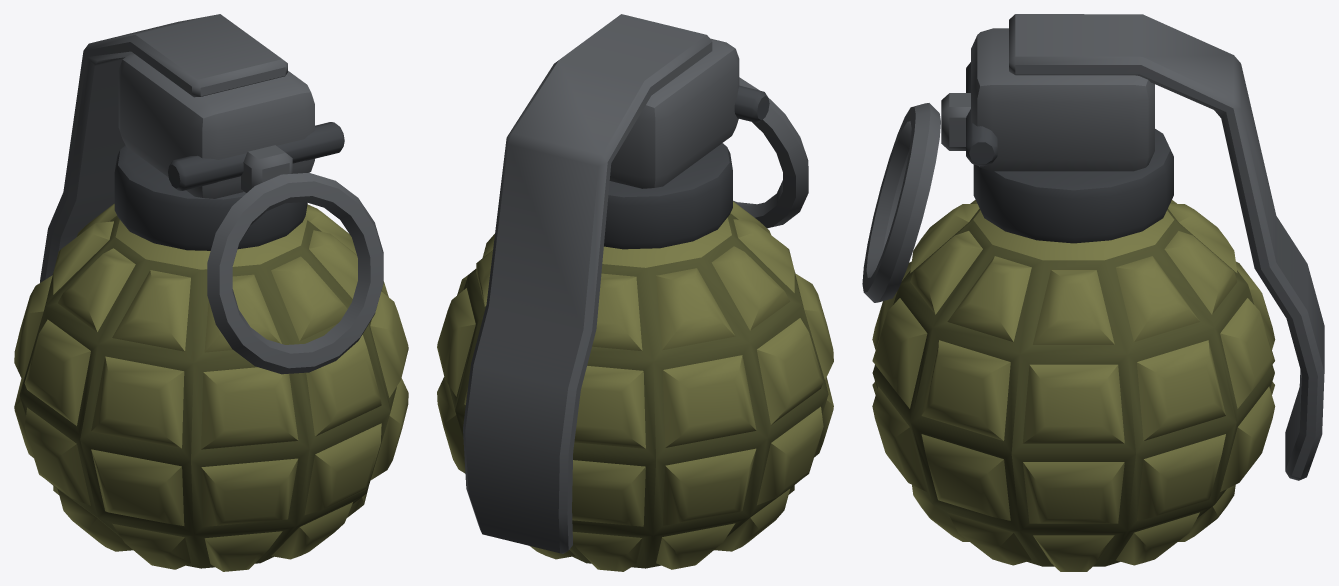
The model's file is grenade.glb.
The picture shows the model from 3 angles, left to right: view 1: azimuth 30°, elevation 25°; view 2: azimuth 150°, elevation 25°; view 3: azimuth 270°, elevation 25°; orthographic projection. The views are drawn at different scales.
Visible parts, largest first — view 1: grenade_body, grenade_fuse, grenade_lever, grenade_ring; view 2: grenade_body, grenade_lever, grenade_fuse, grenade_ring; view 3: grenade_body, grenade_fuse, grenade_lever, grenade_ring.
Part boxes in pixels (x1,y1,x2,y2): grenade_body: (14, 203, 408, 571); grenade_fuse: (114, 54, 344, 250); grenade_lever: (40, 14, 287, 282); grenade_ring: (207, 172, 383, 374); grenade_body: (437, 201, 833, 571); grenade_lever: (463, 14, 712, 553); grenade_fuse: (604, 38, 769, 249); grenade_ring: (733, 77, 808, 228); grenade_body: (872, 200, 1275, 571); grenade_fuse: (941, 28, 1173, 243); grenade_lever: (1009, 14, 1324, 480); grenade_ring: (862, 103, 940, 302).
Size of the model in its own units: 0.0739 by 0.1024 by 0.0854.
